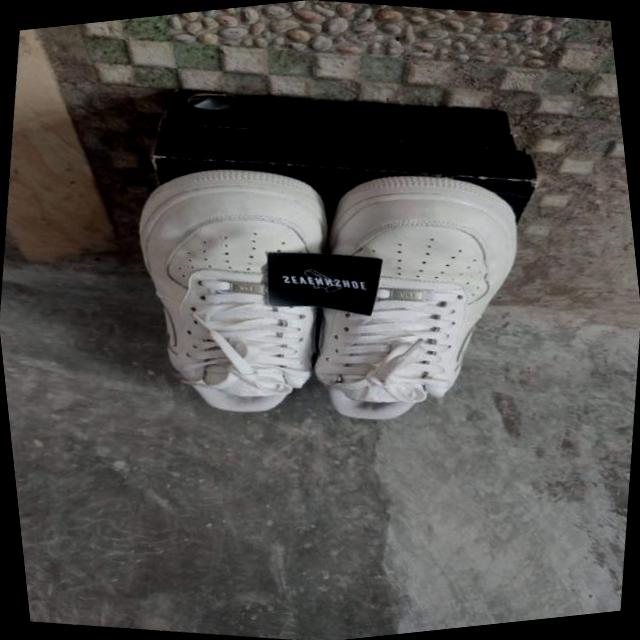nike_fake_airforce: (287, 143, 553, 444), (94, 134, 356, 434)
